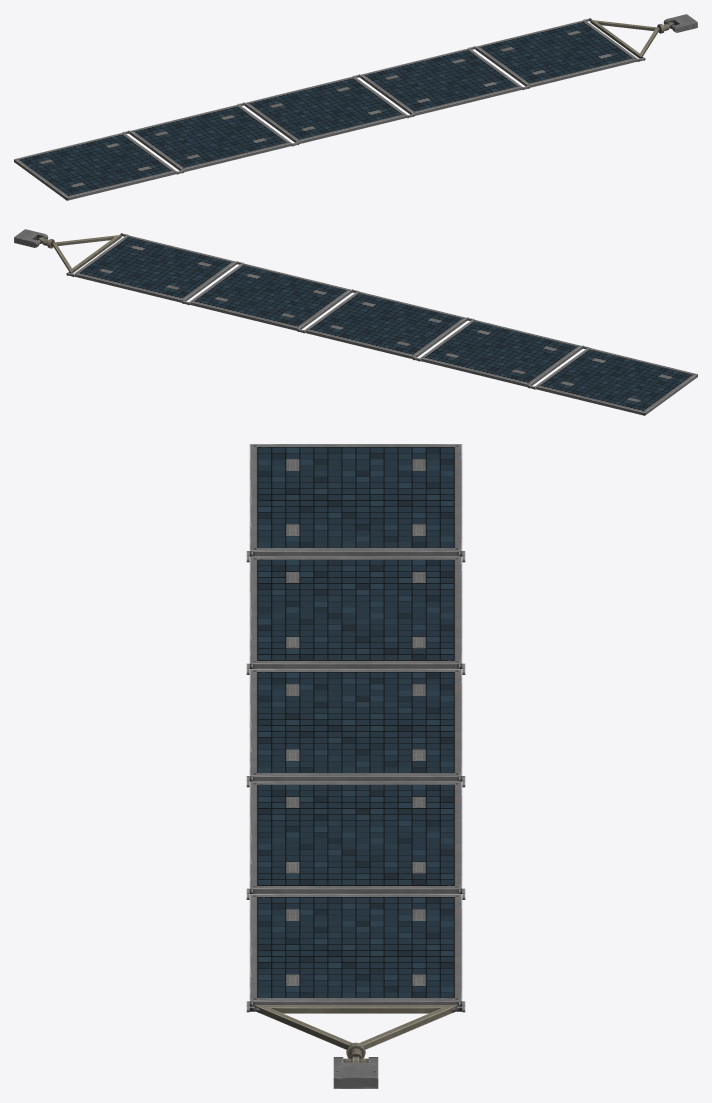
The model's file is ao_bake.obj.
The picture shows the model from 3 angles, top to bottom: view 1: azimuth 30°, elevation 25°; view 2: azimuth 150°, elevation 25°; view 3: azimuth 270°, elevation 25°; orthographic projection. The views are drawn at different scales.
Visible parts, largest first — view 1: 1, 1_copy23, 1_copy8, 1_copy19, 1_copy21; view 2: 1, 1_copy23, 1_copy8, 1_copy19, 1_copy21; view 3: 1, 1_copy23, 1_copy19, 1_copy21, 1_copy8.
Boxes of the visible parts, x1,y1,x2,y2 form: 1: (468, 14, 697, 90); 1_copy23: (14, 132, 176, 200); 1_copy8: (360, 48, 522, 115); 1_copy19: (245, 76, 406, 143); 1_copy21: (129, 104, 291, 172); 1: (14, 229, 243, 305); 1_copy23: (535, 347, 697, 415); 1_copy8: (189, 263, 351, 330); 1_copy19: (305, 291, 466, 358); 1_copy21: (420, 319, 582, 387); 1: (246, 888, 465, 1088); 1_copy23: (249, 444, 462, 556); 1_copy19: (249, 669, 462, 781); 1_copy21: (249, 556, 462, 668); 1_copy8: (249, 781, 462, 893).
Size of the model in its own units: 5.94 by 0.075 by 0.8625.
1 material, 1 textured.
